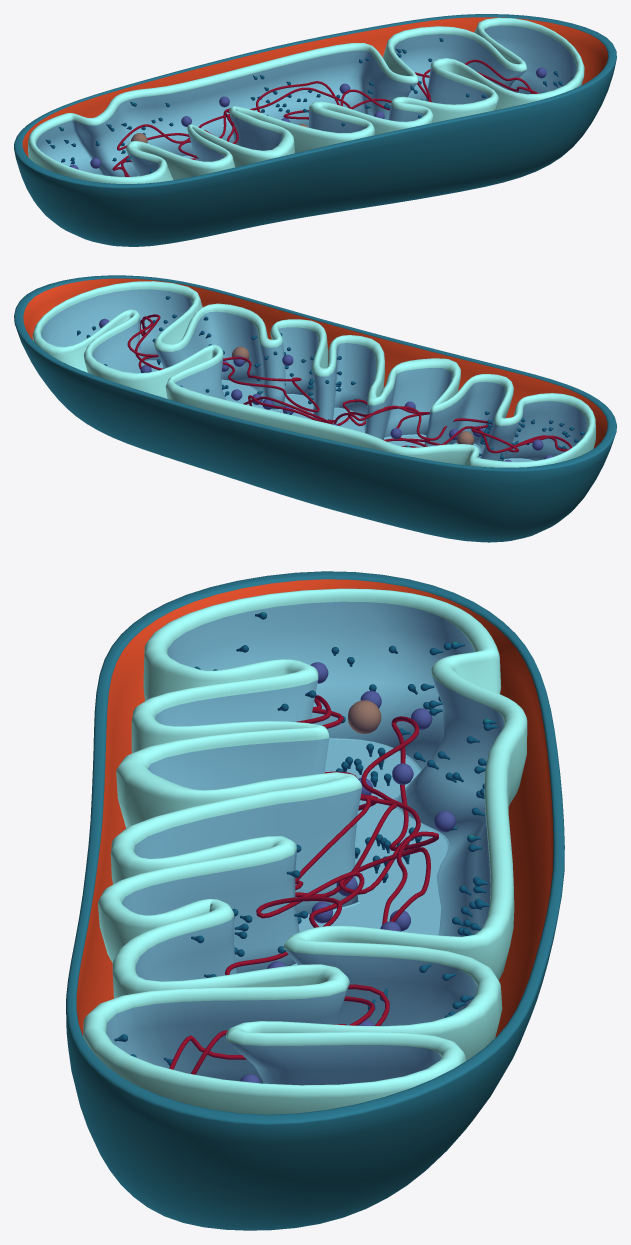
The model's file is Mitochondria.gltf.
The picture shows the model from 3 angles, top to bottom: view 1: azimuth 30°, elevation 25°; view 2: azimuth 150°, elevation 25°; view 3: azimuth 270°, elevation 25°; orthographic projection. The views are drawn at different scales.
Visible parts, largest first — view 1: Cube.001, BezierCircle.002, BezierCircle.003, BezierCircle.004; view 2: BezierCircle.002, Cube.001, BezierCircle.003, BezierCircle.004; view 3: BezierCircle.002, BezierCircle.003, Cube.001, BezierCircle.004, Sphere.588.
Part boxes in pixels (x1,y1,x2,y2): Cube.001: (14,14,616,246); BezierCircle.002: (28,17,584,183); BezierCircle.003: (36,25,576,176); BezierCircle.004: (112,59,538,176); BezierCircle.002: (32,281,595,467); Cube.001: (14,275,616,542); BezierCircle.003: (41,289,586,461); BezierCircle.004: (127,314,571,453); BezierCircle.002: (83,588,527,1114); BezierCircle.003: (106,602,503,1084); Cube.001: (66,571,564,1230); BezierCircle.004: (169,695,438,1074); Sphere.588: (348,700,381,733).
Size of the model in its own units: 7.91 by 1.37 by 3.02.
